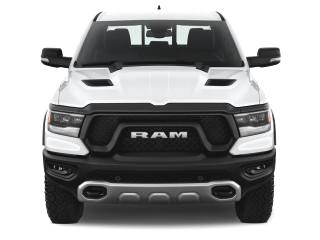ram: (127, 125, 195, 144)
